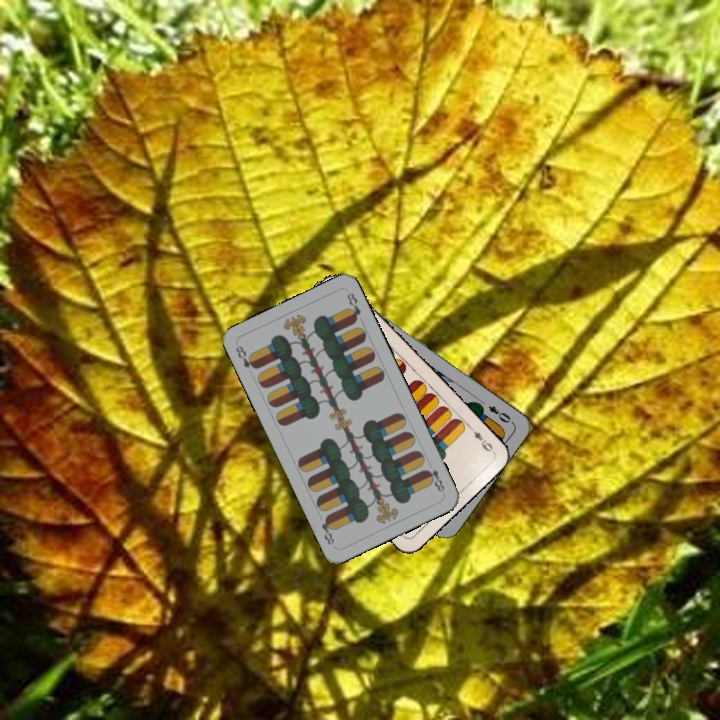E8: (232, 341, 260, 372), (421, 464, 447, 496)
E9: (465, 422, 496, 455)
EO: (484, 401, 516, 426)
